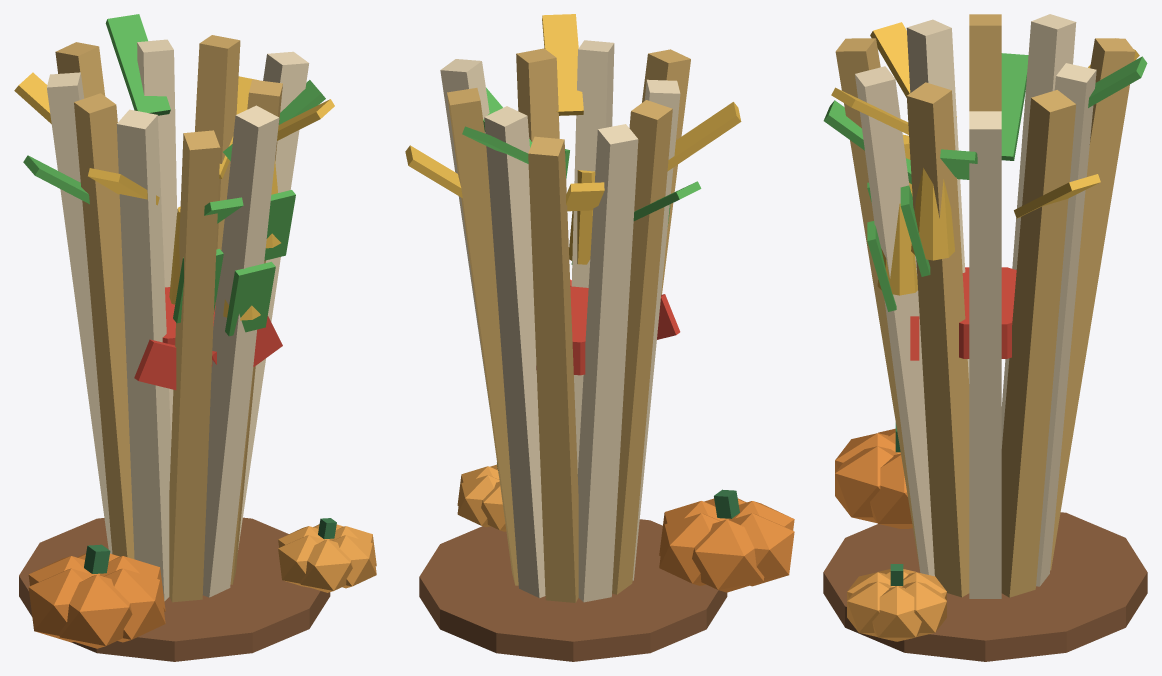
File: CatCafe_Decor_CornSheaf.glb
3 renders of one model, left to right at view 1: azimuth 30°, elevation 25°; view 2: azimuth 150°, elevation 25°; view 3: azimuth 270°, elevation 25°, orthographic. The views are drawn at different scales.
Visible parts, largest first — view 1: CatCafe_Decor_CornSheaf; view 2: CatCafe_Decor_CornSheaf; view 3: CatCafe_Decor_CornSheaf.
Boxes of the visible parts, x1=… form: CatCafe_Decor_CornSheaf: x1=14, y1=14, x2=376, y2=661; CatCafe_Decor_CornSheaf: x1=405, y1=14, x2=794, y2=661; CatCafe_Decor_CornSheaf: x1=823, y1=14, x2=1147, y2=661.
Size of the model in its own units: 2.73 by 4.06 by 2.2.
Materials: 1 (1 with a texture image).
